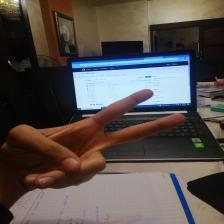two: (10, 89, 191, 188)
